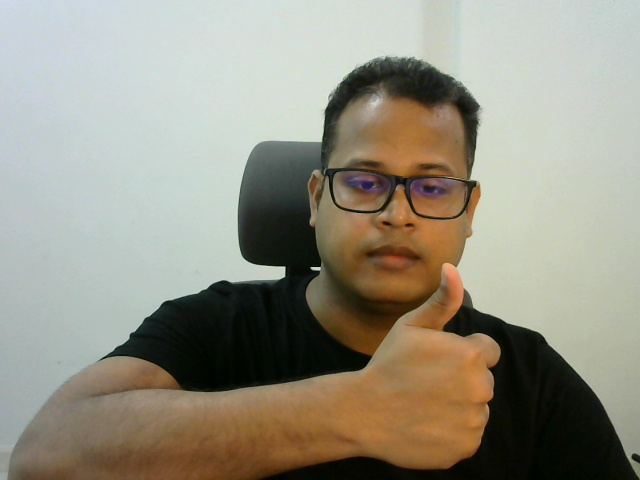ThumbsUp: (370, 262, 501, 470)
